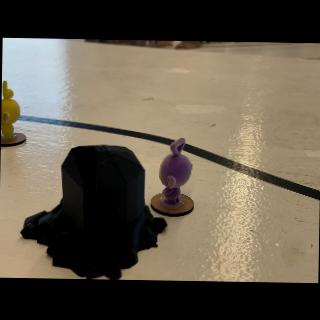teletubby: (159, 137, 192, 204), (0, 80, 20, 138)
